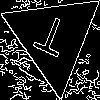T: (28, 12, 72, 66)
